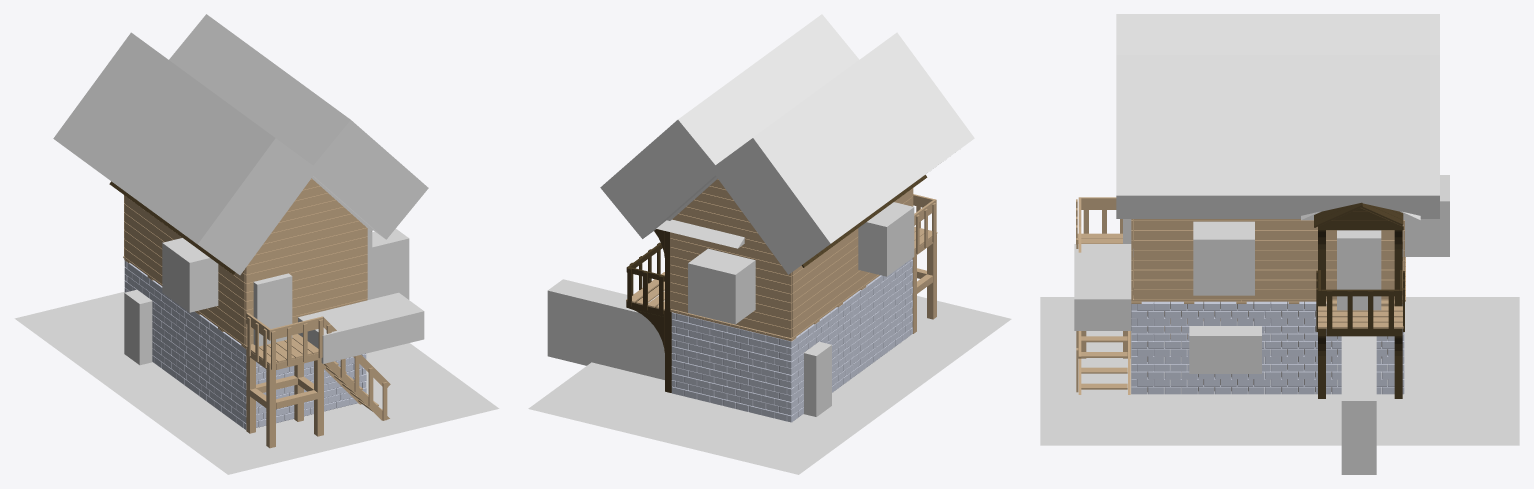
The model's file is house.fbx.
The picture shows the model from 3 angles, left to right: view 1: azimuth 30°, elevation 25°; view 2: azimuth 150°, elevation 25°; view 3: azimuth 270°, elevation 25°; orthographic projection. The views are drawn at different scales.
Parts seen in each view (by area): view 1: Крыша удаление 2, Плоскость, Куб.040, Куб.019, Куб.043, Дырка дверь, Куб.005, Куб.001, Дырка Окно 1.2, Куб.018, Дырка дверь 2, Куб (+8 smaller); view 2: Крыша удаление 2, Плоскость, Дырка дверь, Куб.041, Куб.003, Куб.006, Куб.001, Куб.043, Куб.005, Дырка Окно 2.1, Дырка Окно 1.2, Крыша удаление 3 (+6 smaller); view 3: Крыша удаление 2, Плоскость, Куб.042, Куб.007, Куб.002, Куб.019, Дырка дверь, Дырка Окно 1.2, Дырка окно, Дырка дверь.001, Дырка Окно 2.1, Куб.011 (+7 smaller).
Boxes of the visible parts, bbox=[...] form: Крыша удаление 2: bbox=[53, 14, 428, 275]; Плоскость: bbox=[14, 291, 499, 474]; Куб.040: bbox=[245, 178, 367, 345]; Куб.019: bbox=[298, 292, 424, 363]; Куб.043: bbox=[125, 196, 245, 344]; Дырка дверь: bbox=[124, 228, 409, 365]; Куб.005: bbox=[127, 262, 246, 423]; Куб.001: bbox=[124, 267, 243, 428]; Дырка Окно 1.2: bbox=[162, 229, 372, 312]; Куб.018: bbox=[246, 348, 323, 448]; Дырка дверь 2: bbox=[253, 273, 292, 346]; Куб: bbox=[244, 354, 361, 429]; Крыша удаление 2: bbox=[600, 14, 974, 274]; Плоскость: bbox=[528, 296, 1011, 474]; Дырка дверь: bbox=[547, 279, 831, 416]; Куб.041: bbox=[670, 179, 792, 338]; Куб.003: bbox=[671, 319, 787, 421]; Куб.006: bbox=[676, 313, 793, 415]; Куб.001: bbox=[787, 262, 910, 422]; Куб.043: bbox=[792, 189, 912, 337]; Куб.005: bbox=[794, 258, 912, 413]; Дырка Окно 2.1: bbox=[688, 248, 755, 324]; Дырка Окно 1.2: bbox=[858, 202, 914, 276]; Крыша удаление 3: bbox=[656, 219, 744, 248]; Крыша удаление 2: bbox=[1116, 14, 1439, 218]; Плоскость: bbox=[1040, 297, 1519, 445]; Куб.042: bbox=[1134, 219, 1394, 299]; Куб.007: bbox=[1137, 301, 1404, 386]; Куб.002: bbox=[1131, 309, 1394, 394]; Куб.019: bbox=[1074, 244, 1131, 330]; Дырка дверь: bbox=[1341, 336, 1376, 474]; Дырка Окно 1.2: bbox=[1193, 221, 1254, 295]; Дырка окно: bbox=[1189, 321, 1261, 373]; Дырка дверь.001: bbox=[1337, 230, 1381, 310]; Дырка Окно 2.1: bbox=[1402, 175, 1449, 256]; Куб.011: bbox=[1318, 249, 1402, 398].
Bounding box in the file's own units: 2342 × 2113 × 2746.
